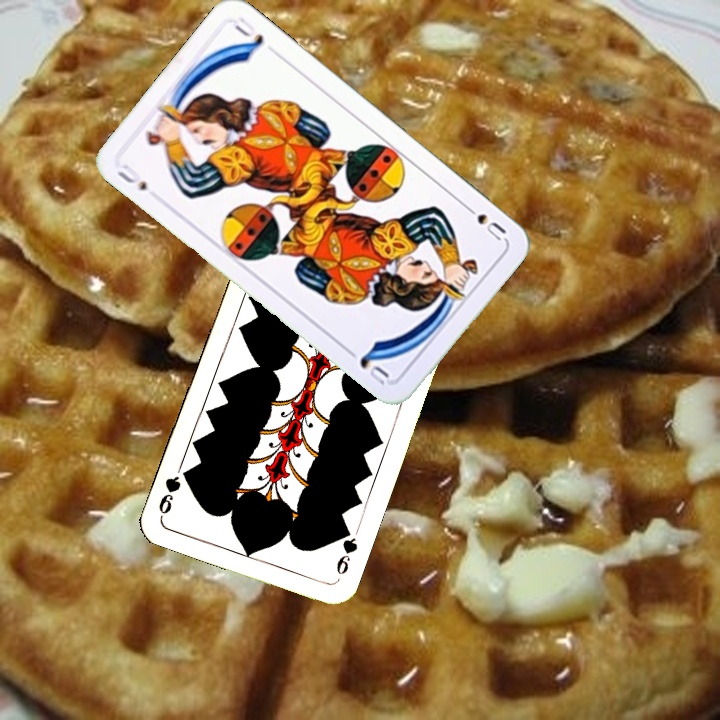G9: (332, 522, 360, 578)
SU: (458, 200, 509, 244), (113, 160, 150, 194)
